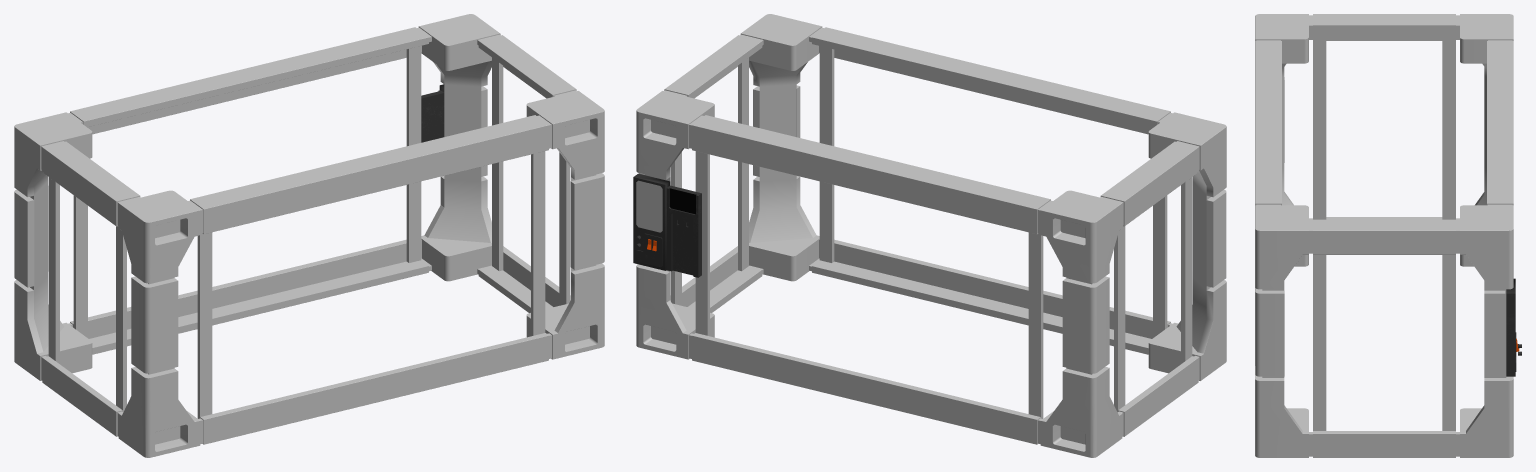
The model's file is frame.fbx.
3 renders of one model, left to right at view 1: azimuth 30°, elevation 25°; view 2: azimuth 150°, elevation 25°; view 3: azimuth 270°, elevation 25°, orthographic. The views are drawn at different scales.
Parts seen in each view (by area): view 1: Cube.044, Cube.058; view 2: Cube.044, Cube.058, Cube.056, Cube.055; view 3: Cube.044, Cube.056.
Boxes of the visible parts, <box> form: Cube.044: <box>14,14,604,457</box>; Cube.058: <box>421,90,444,142</box>; Cube.044: <box>636,14,1226,457</box>; Cube.058: <box>666,185,701,277</box>; Cube.056: <box>633,173,670,270</box>; Cube.055: <box>636,180,662,232</box>; Cube.044: <box>1255,14,1513,457</box>; Cube.056: <box>1506,278,1521,376</box>.
Bounding box in the file's own units: 224 × 110 × 117.
